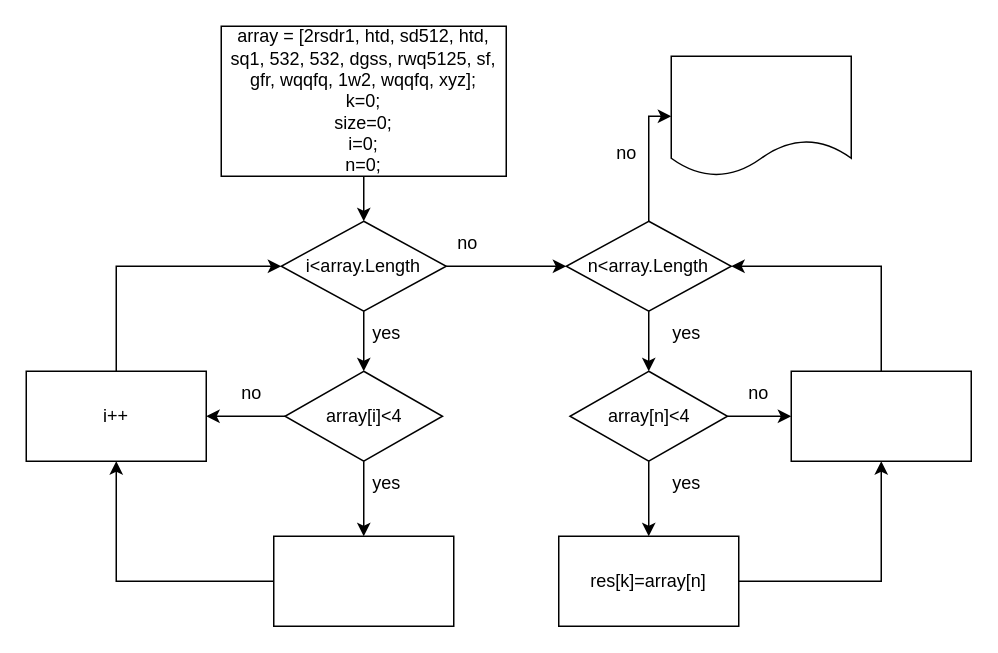
This 998x653 diagram has some shape labels left out. The centre of each missing label's shape, as x and y in pixels:
n++: point (880, 415)
res: point (760, 115)
size++: point (363, 580)
